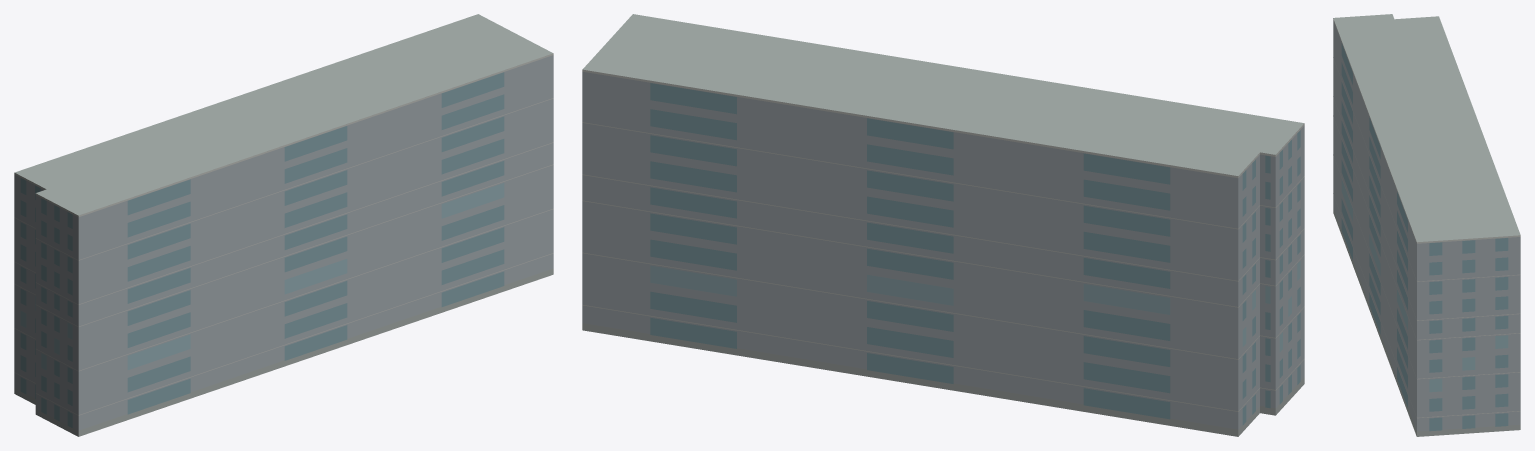
Rendered from residential-af8f741f-a5cc-4d46-a862-6f84cb92d11e.glb.
3 views of the same model, side by side, from view 1: azimuth 30°, elevation 25°; view 2: azimuth 150°, elevation 25°; view 3: azimuth 270°, elevation 25° (orthographic). The views are drawn at different scales.
Visible parts, largest first — view 1: residential-af8f741f-a5cc-4d46-a862-6f84cb92d11e.tmp; view 2: residential-af8f741f-a5cc-4d46-a862-6f84cb92d11e.tmp; view 3: residential-af8f741f-a5cc-4d46-a862-6f84cb92d11e.tmp.
Boxes of the visible parts, <box> form: residential-af8f741f-a5cc-4d46-a862-6f84cb92d11e.tmp: <box>14,14,553,436</box>; residential-af8f741f-a5cc-4d46-a862-6f84cb92d11e.tmp: <box>582,14,1304,436</box>; residential-af8f741f-a5cc-4d46-a862-6f84cb92d11e.tmp: <box>1333,14,1520,436</box>.
Bounding box in the file's own units: 76.7 × 30.5 × 26.66.
